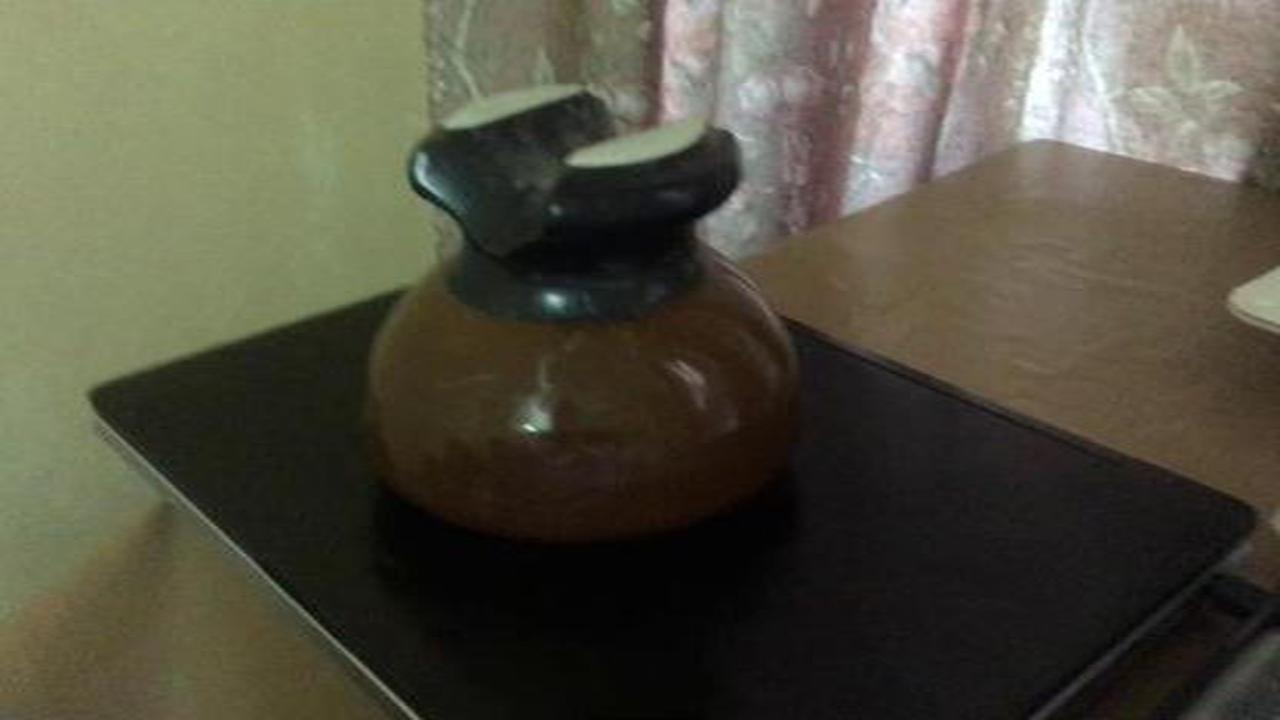insulator_pin: (336, 61, 828, 560)
